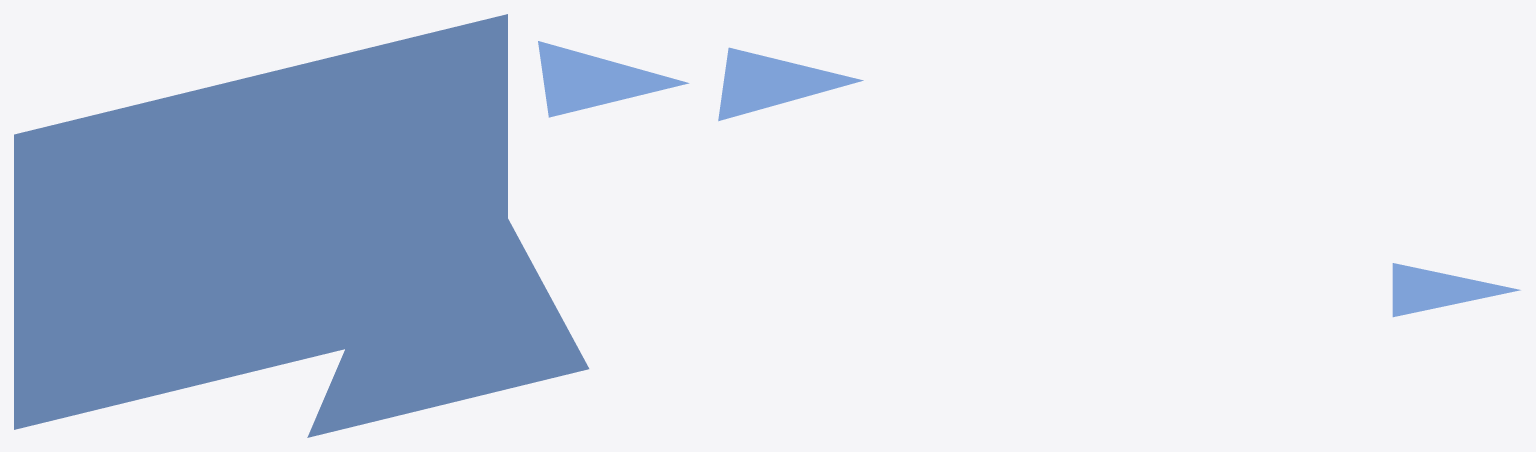
File: no_position.glb
The picture shows the model from 3 angles, left to right: view 1: azimuth 30°, elevation 25°; view 2: azimuth 150°, elevation 25°; view 3: azimuth 270°, elevation 25°; orthographic projection. The views are drawn at different scales.
Parts seen in each view (by area): view 1: QuadA, QuadB, TriC, MatrixE; view 2: MatrixE; view 3: MatrixE.
Part boxes in pixels (left/top/right/bottom): QuadA: left=14, top=66, right=296, bottom=429; QuadB: left=225, top=14, right=507, bottom=375; TriC: left=307, top=108, right=589, bottom=437; MatrixE: left=538, top=41, right=689, bottom=117; MatrixE: left=718, top=47, right=863, bottom=121; MatrixE: left=1392, top=263, right=1520, bottom=317.
Size of the model in its own units: 4.5 by 2 by 1.5.
